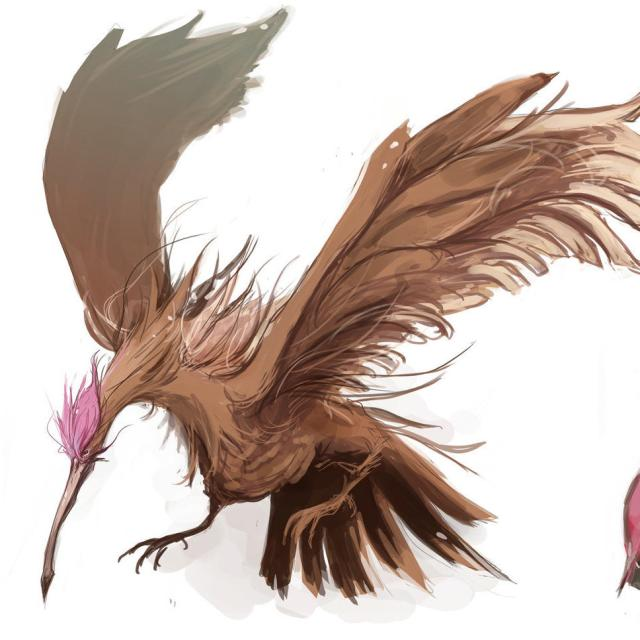Fearow: (36, 212, 461, 605)
